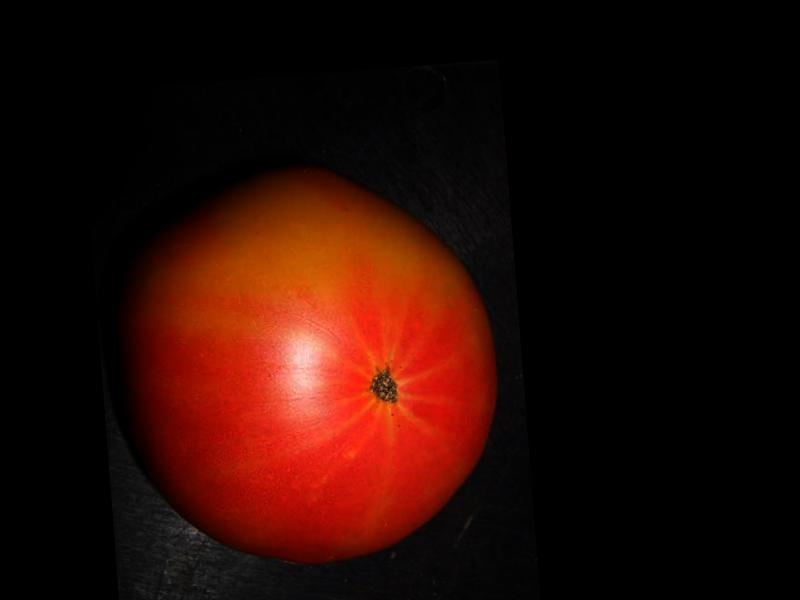Tomato: (103, 156, 510, 577)
